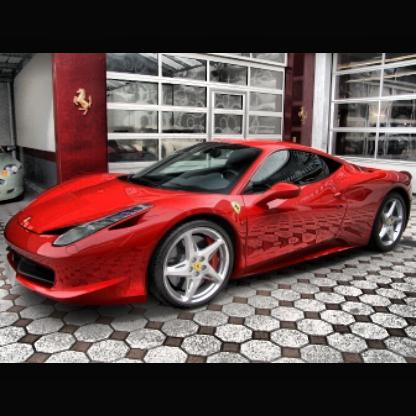Ferrari 458 Italia Coupe 2012: (5, 140, 413, 315)
